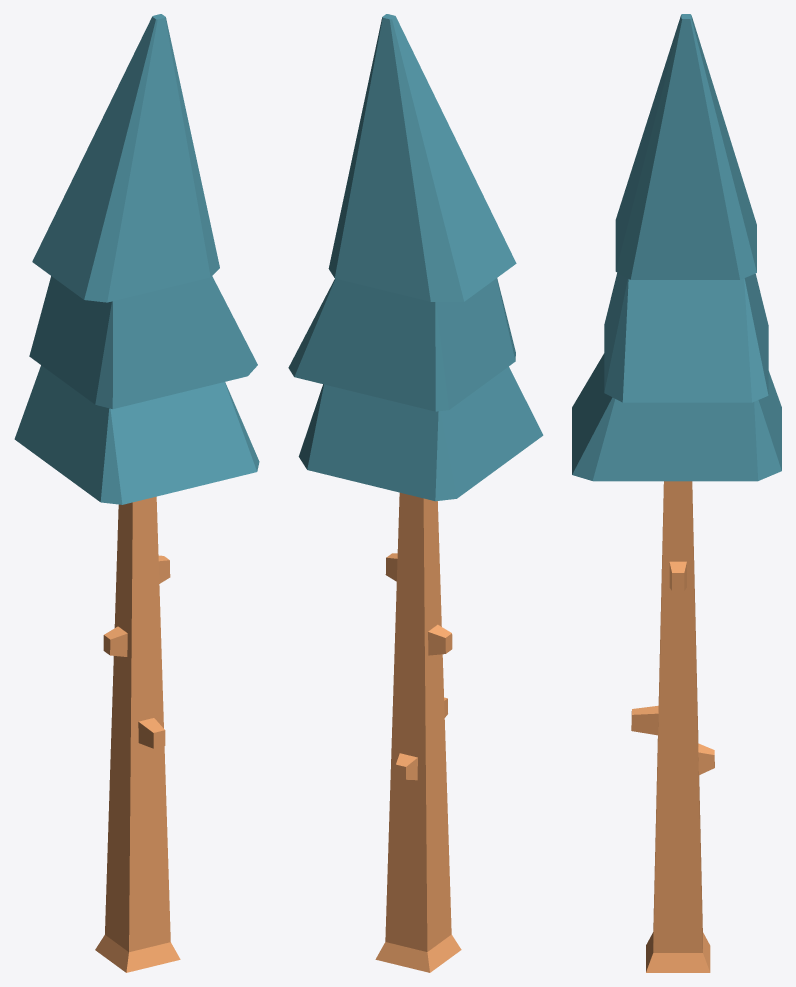
Rendered from tree_pine_tallSquare_detailed.fbx.
3 renders of one model, left to right at view 1: azimuth 30°, elevation 25°; view 2: azimuth 150°, elevation 25°; view 3: azimuth 270°, elevation 25°, orthographic. The views are drawn at different scales.
Parts seen in each view (by area): view 1: tree_pine_tallSquare_detailed; view 2: tree_pine_tallSquare_detailed; view 3: tree_pine_tallSquare_detailed.
Boxes of the visible parts, x1,y1,x2,y2 form: tree_pine_tallSquare_detailed: (14, 14, 259, 972); tree_pine_tallSquare_detailed: (288, 14, 543, 972); tree_pine_tallSquare_detailed: (572, 14, 781, 972).
Size of the model in its own units: 3.86 by 19.7 by 3.92.
